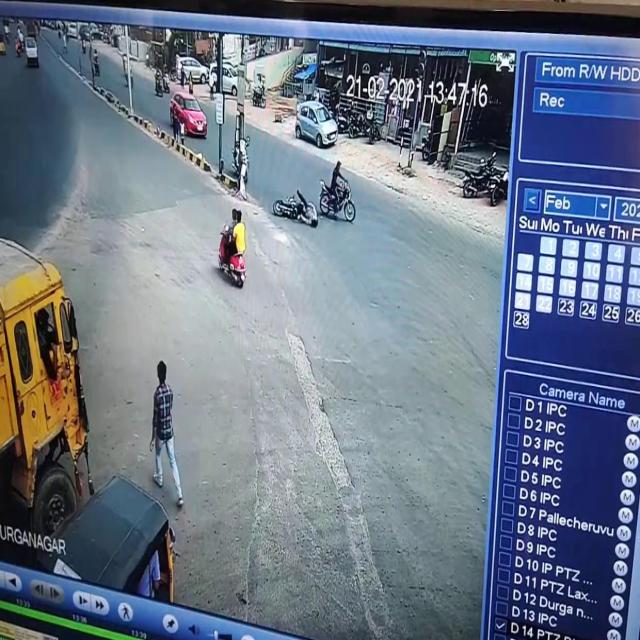accident: (269, 178, 327, 240)
